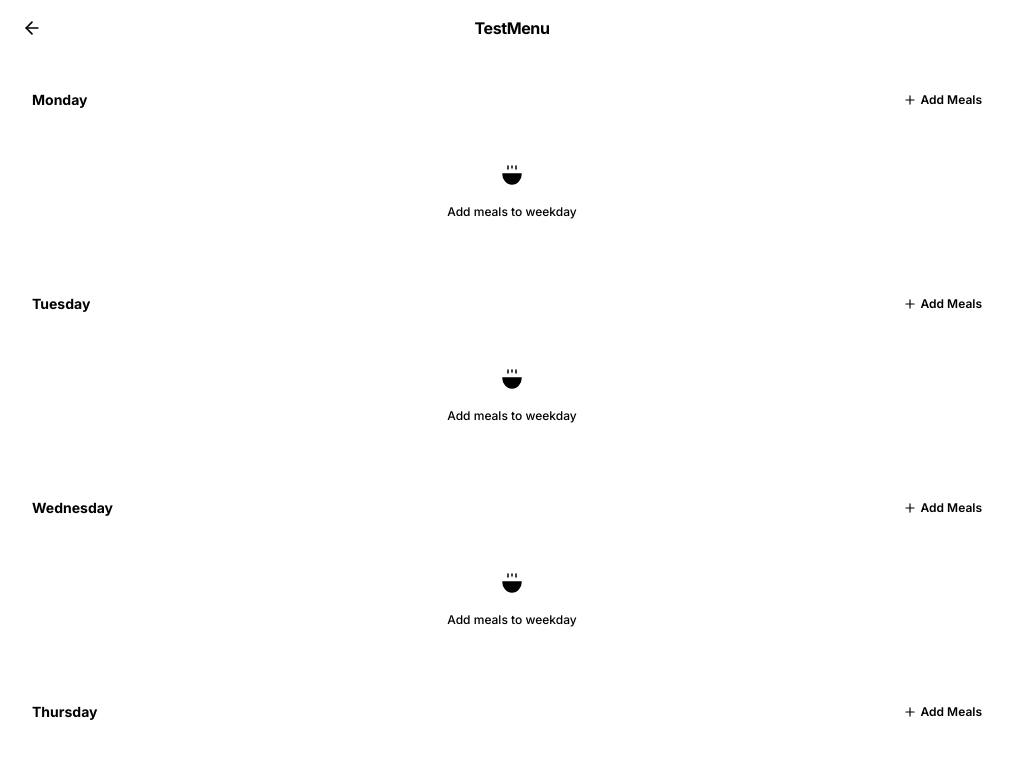
AddMenu Component › allows removing an individual meal and clearing all meals for a day
Click the button "Add Meals" in the row of "Monday": (942, 100) 892,88 -> 992,112
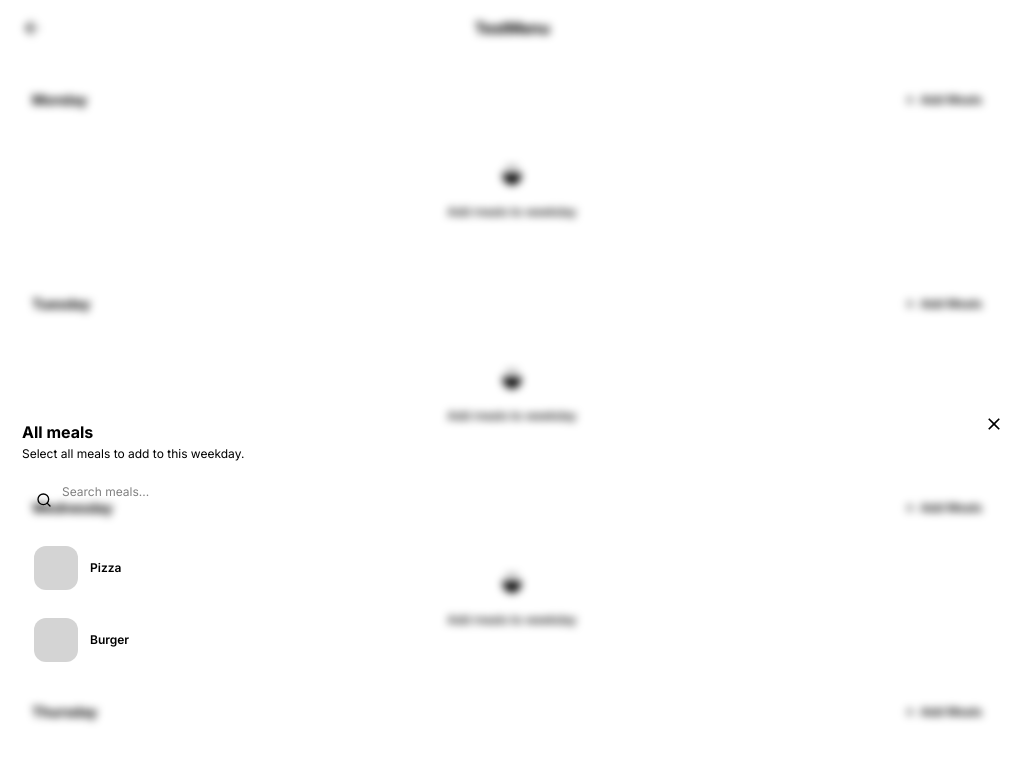
Select Pizza and Burger
Click the button "Pizza": (56, 568) 22,534 -> 1002,602
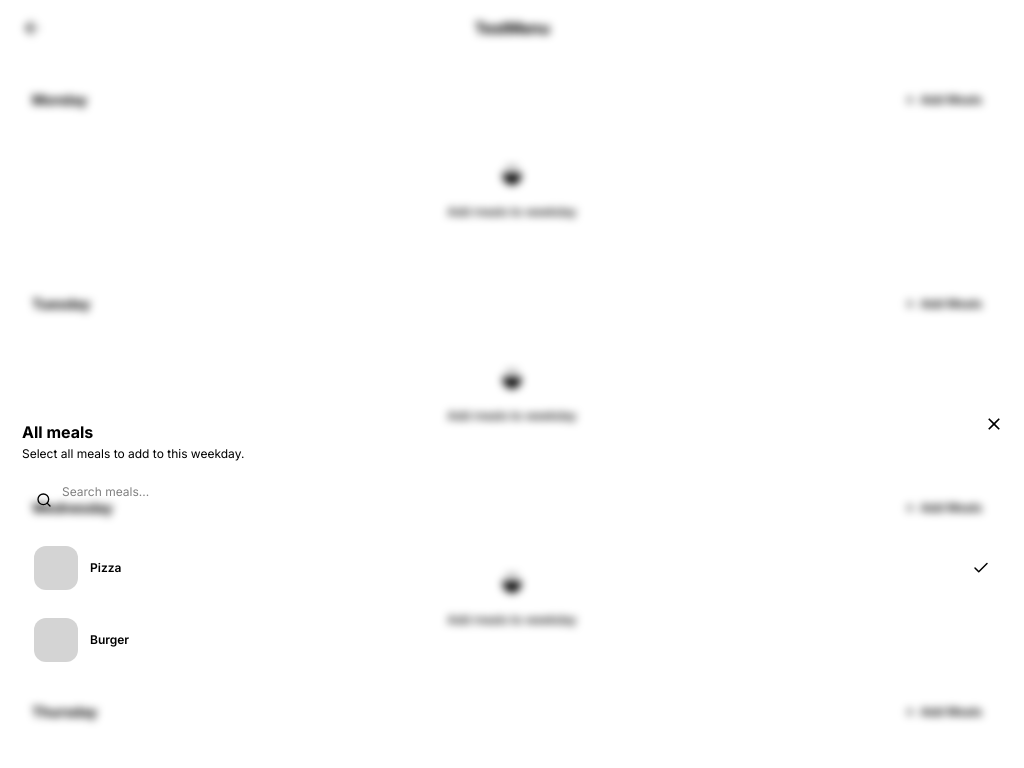
Click the button "Burger": (56, 640) 22,606 -> 1002,674
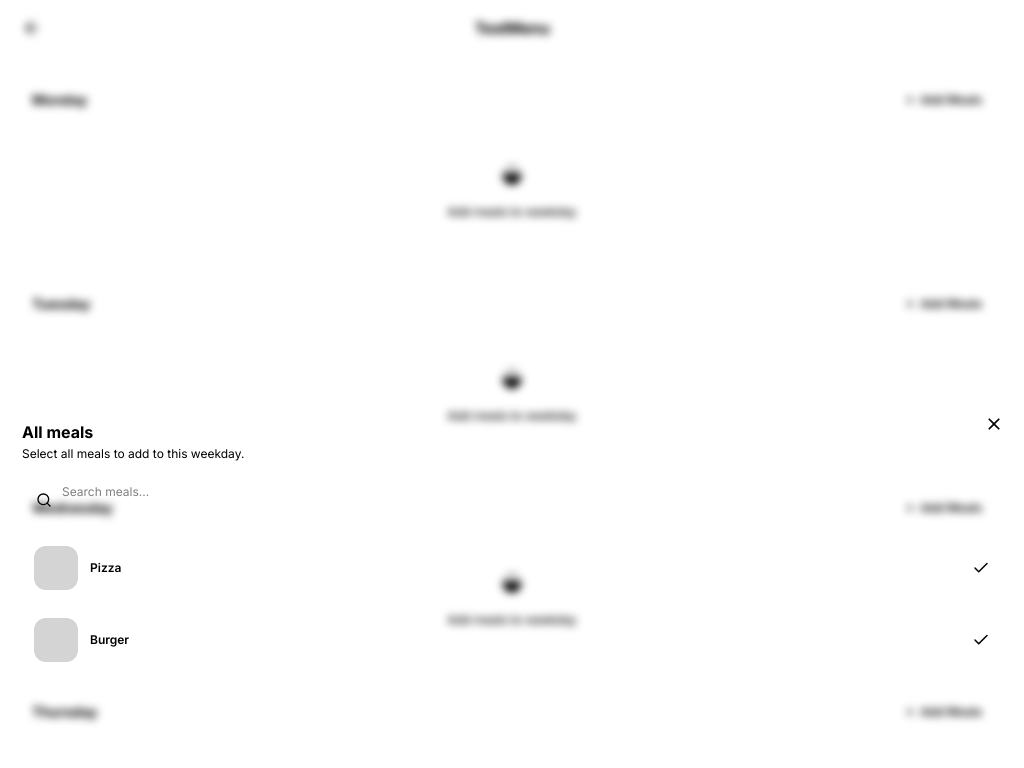
Click the button "Add": (512, 724) 22,702 -> 1002,746
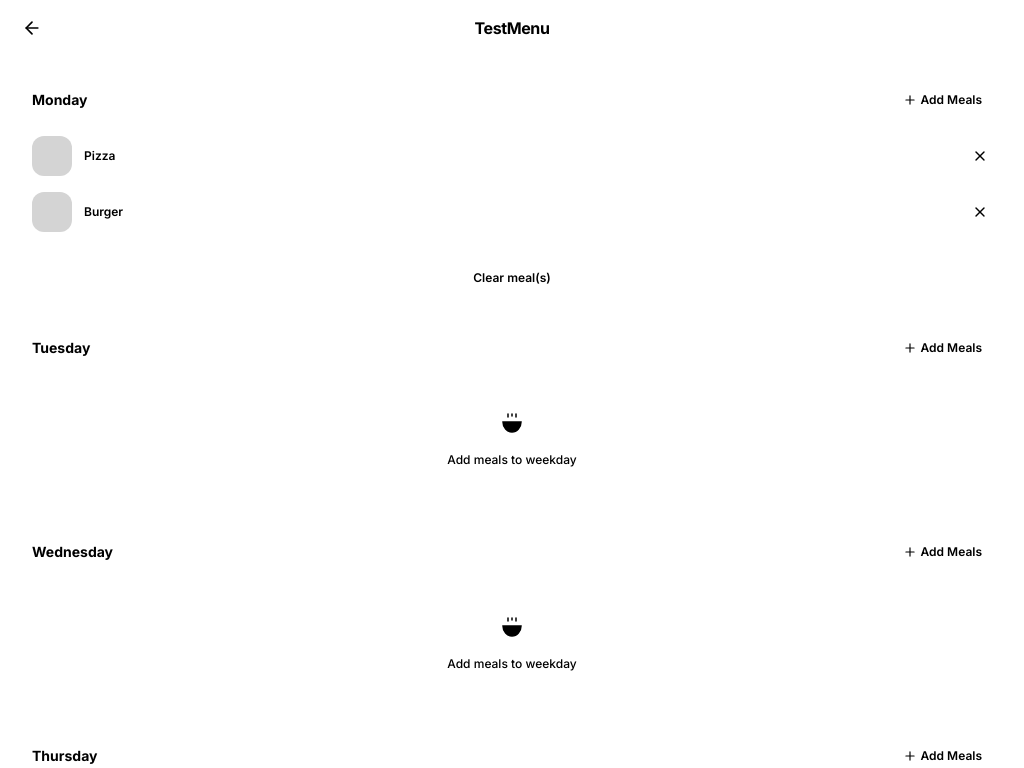
Expected: the text "Pizza" is shown, 84,148 -> 115,164
Expected: the text "Burger" is shown, 84,204 -> 123,220
Remove Pizza using the remove button
Click the button named "Remove meal" in the row of "Pizza": (980, 156) 968,144 -> 992,168
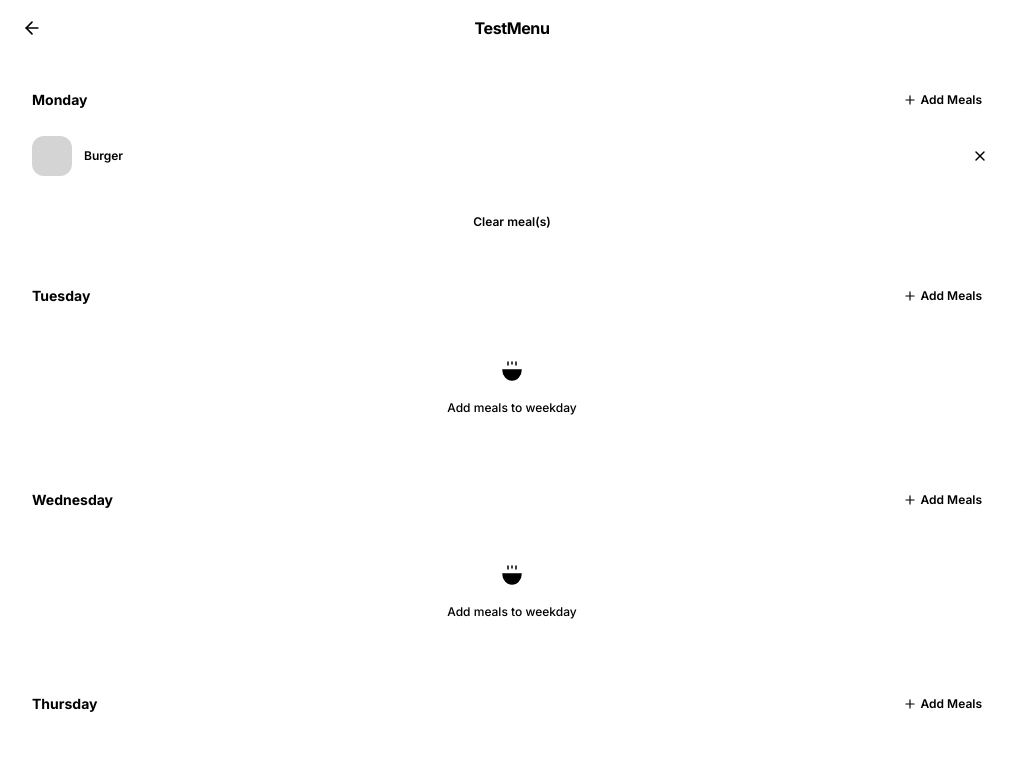
Expected: the text "Burger" is shown, 84,148 -> 123,164
Expected: the text "Pizza" is gone
Clear remaining meals
Click the button "Clear meal(s)": (512, 222) 473,214 -> 551,230
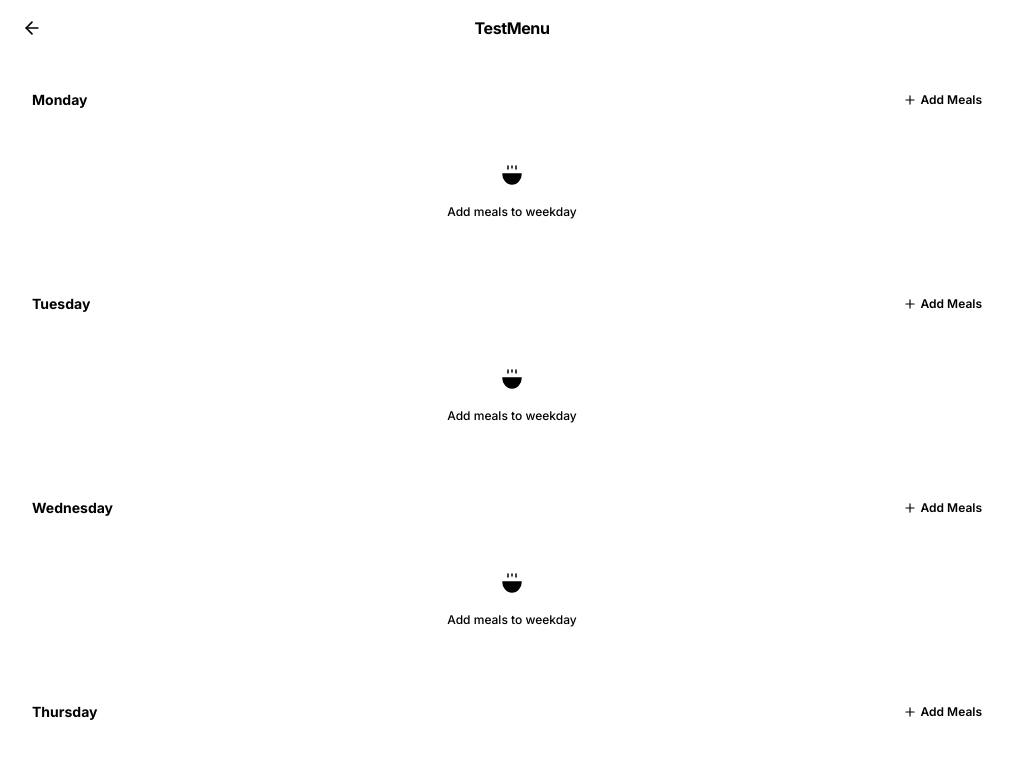
Expected: the text "Burger" is gone
Expected: the 1st text "Add meals to weekday" is shown, 447,204 -> 577,220
